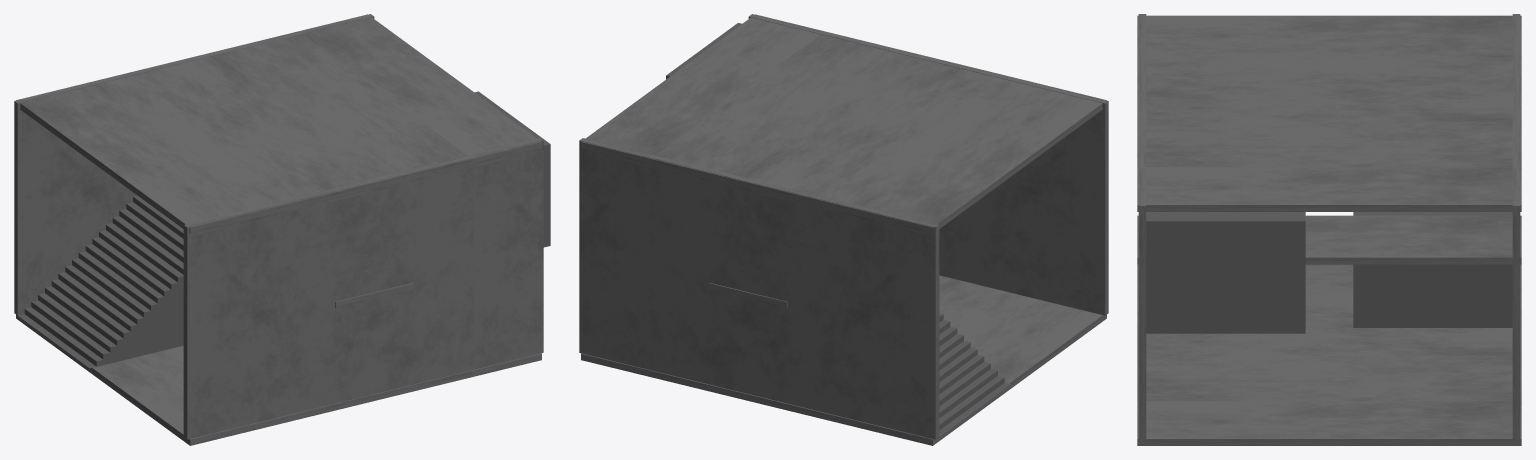
File: Frame 20. Stairwell loop displaying repeated B2 labels at incompatible heights.fbx
The picture shows the model from 3 angles, left to right: view 1: azimuth 30°, elevation 25°; view 2: azimuth 150°, elevation 25°; view 3: azimuth 270°, elevation 25°; orthographic projection. The views are drawn at different scales.
Visible parts, largest first — view 1: Cube.285, Cube.290, Cube.287, Cube.284, Cube.286, Cube.288, Cube.289; view 2: Cube.284, Cube.290, Cube.285, Cube.286, Cube.287, Cube.289; view 3: Cube.290, Cube.286, Cube.288, Cube.287, Cube.289, Cube.284, Cube.285.
Part boxes in pixels (x1,y1,x2,y2): Cube.285: (183,138,543,439); Cube.290: (16,14,541,233); Cube.287: (18,195,183,368); Cube.284: (14,14,374,315); Cube.286: (16,314,541,445); Cube.288: (475,91,550,247); Cube.289: (335,282,413,308); Cube.284: (579,138,939,439); Cube.290: (581,14,1106,233); Cube.285: (748,14,1108,315); Cube.286: (581,275,1106,445); Cube.287: (939,313,1010,436); Cube.289: (709,282,787,308); Cube.290: (1137,15,1521,211); Cube.286: (1137,264,1521,445); Cube.288: (1146,212,1305,333); Cube.287: (1353,212,1512,327); Cube.289: (1137,215,1521,264); Cube.284: (1512,14,1520,440); Cube.285: (1138,14,1146,440).
Size of the model in its own units: 12060 by 6863 by 9910.
Materials: 4 (1 with a texture image).
